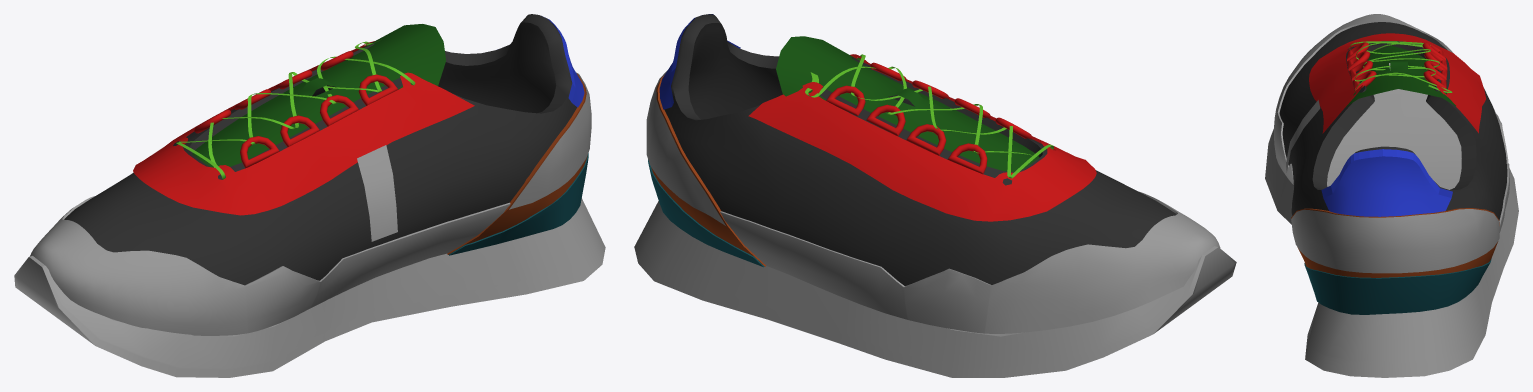
Rendered from xiezi.FBX.
3 renders of one model, left to right at view 1: azimuth 30°, elevation 25°; view 2: azimuth 150°, elevation 25°; view 3: azimuth 270°, elevation 25°, orthographic. The views are drawn at different scales.
Visible parts, largest first — view 1: zhuxiemian, dadi, qianpian, xiedaikong, xieshe, zi, cechexian, houpian2, houpian, xiedai, houshangpian; view 2: zhuxiemian, dadi, qianpian, xiedaikong, xieshe, zi, xiedai, houpian, houpian2, houshangpian; view 3: dadi, zhuxiemian, zi, xiedaikong, houshangpian, houpian2, xieshe, qianpian, houpian, xiedai, cechexian.
Boxes of the visible parts, x1=… form: zhuxiemian: x1=64, y1=14, x2=576, y2=285; dadi: x1=14, y1=198, x2=605, y2=377; qianpian: x1=30, y1=196, x2=510, y2=335; xiedaikong: x1=133, y1=41, x2=474, y2=215; xieshe: x1=192, y1=24, x2=445, y2=167; zi: x1=509, y1=72, x2=591, y2=209; cechexian: x1=357, y1=145, x2=397, y2=241; houpian2: x1=449, y1=153, x2=588, y2=255; houpian: x1=447, y1=74, x2=587, y2=254; xiedai: x1=176, y1=39, x2=415, y2=179; houshangpian: x1=497, y1=16, x2=584, y2=107; zhuxiemian: x1=664, y1=14, x2=1176, y2=285; dadi: x1=634, y1=201, x2=1236, y2=377; qianpian: x1=720, y1=191, x2=1220, y2=333; xiedaikong: x1=748, y1=54, x2=1096, y2=221; xieshe: x1=776, y1=36, x2=1039, y2=171; zi: x1=646, y1=70, x2=725, y2=225; xiedai: x1=805, y1=54, x2=1053, y2=178; houpian: x1=651, y1=75, x2=765, y2=266; houpian2: x1=648, y1=159, x2=764, y2=267; houshangpian: x1=659, y1=14, x2=740, y2=109; dadi: x1=1265, y1=63, x2=1518, y2=377; zhuxiemian: x1=1279, y1=22, x2=1507, y2=220; zi: x1=1291, y1=209, x2=1499, y2=273; xiedaikong: x1=1309, y1=33, x2=1486, y2=133; houshangpian: x1=1321, y1=149, x2=1452, y2=216; houpian2: x1=1304, y1=258, x2=1491, y2=314; xieshe: x1=1346, y1=45, x2=1455, y2=106; qianpian: x1=1274, y1=14, x2=1509, y2=232; houpian: x1=1291, y1=208, x2=1499, y2=277; xiedai: x1=1349, y1=41, x2=1452, y2=92; cechexian: x1=1286, y1=100, x2=1320, y2=172.
Bounding box in the file's own units: 1316 × 539 × 548.
